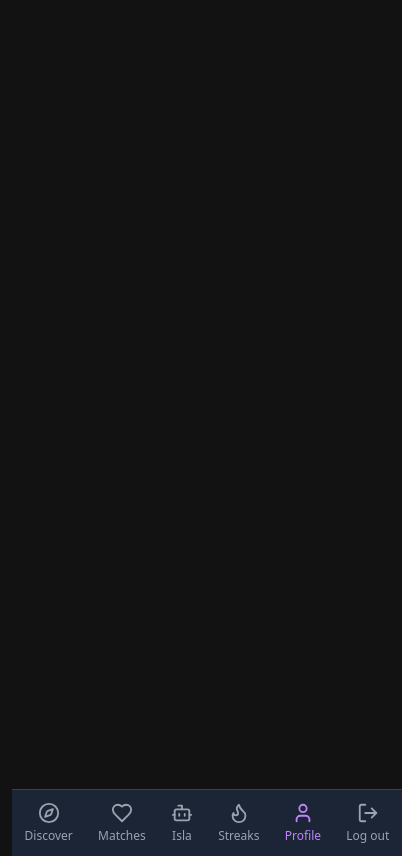
AppNavigation › logs out and goes to the login page
This screenshot has width=402, height=856.
Step 1. Click the button "Log out" → (368, 823), box [338,794,397,852]
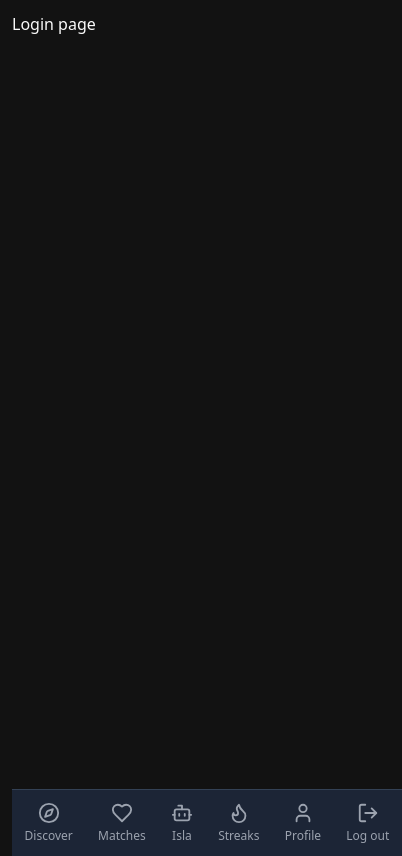
Expected: the text "Login page" is shown, [12,13,96,35]
